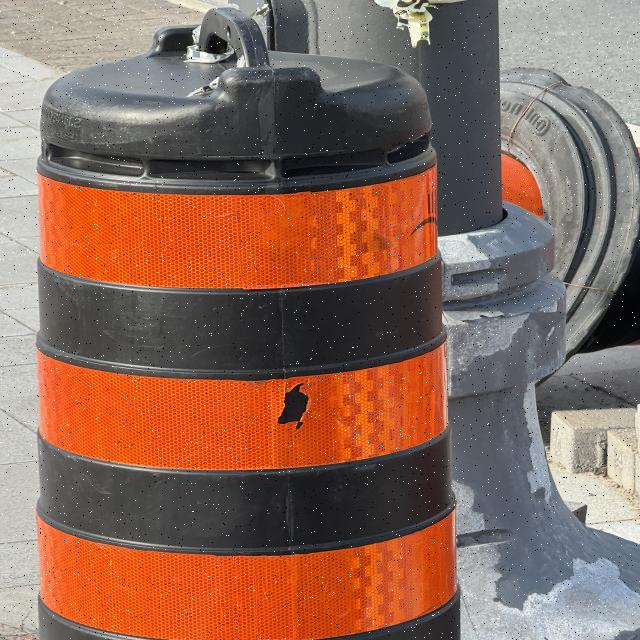Teraffic Barrel: (38, 8, 459, 640)
